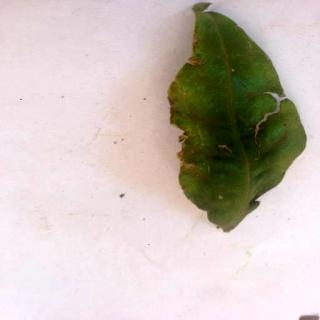Brown Blight: (168, 2, 306, 233)
